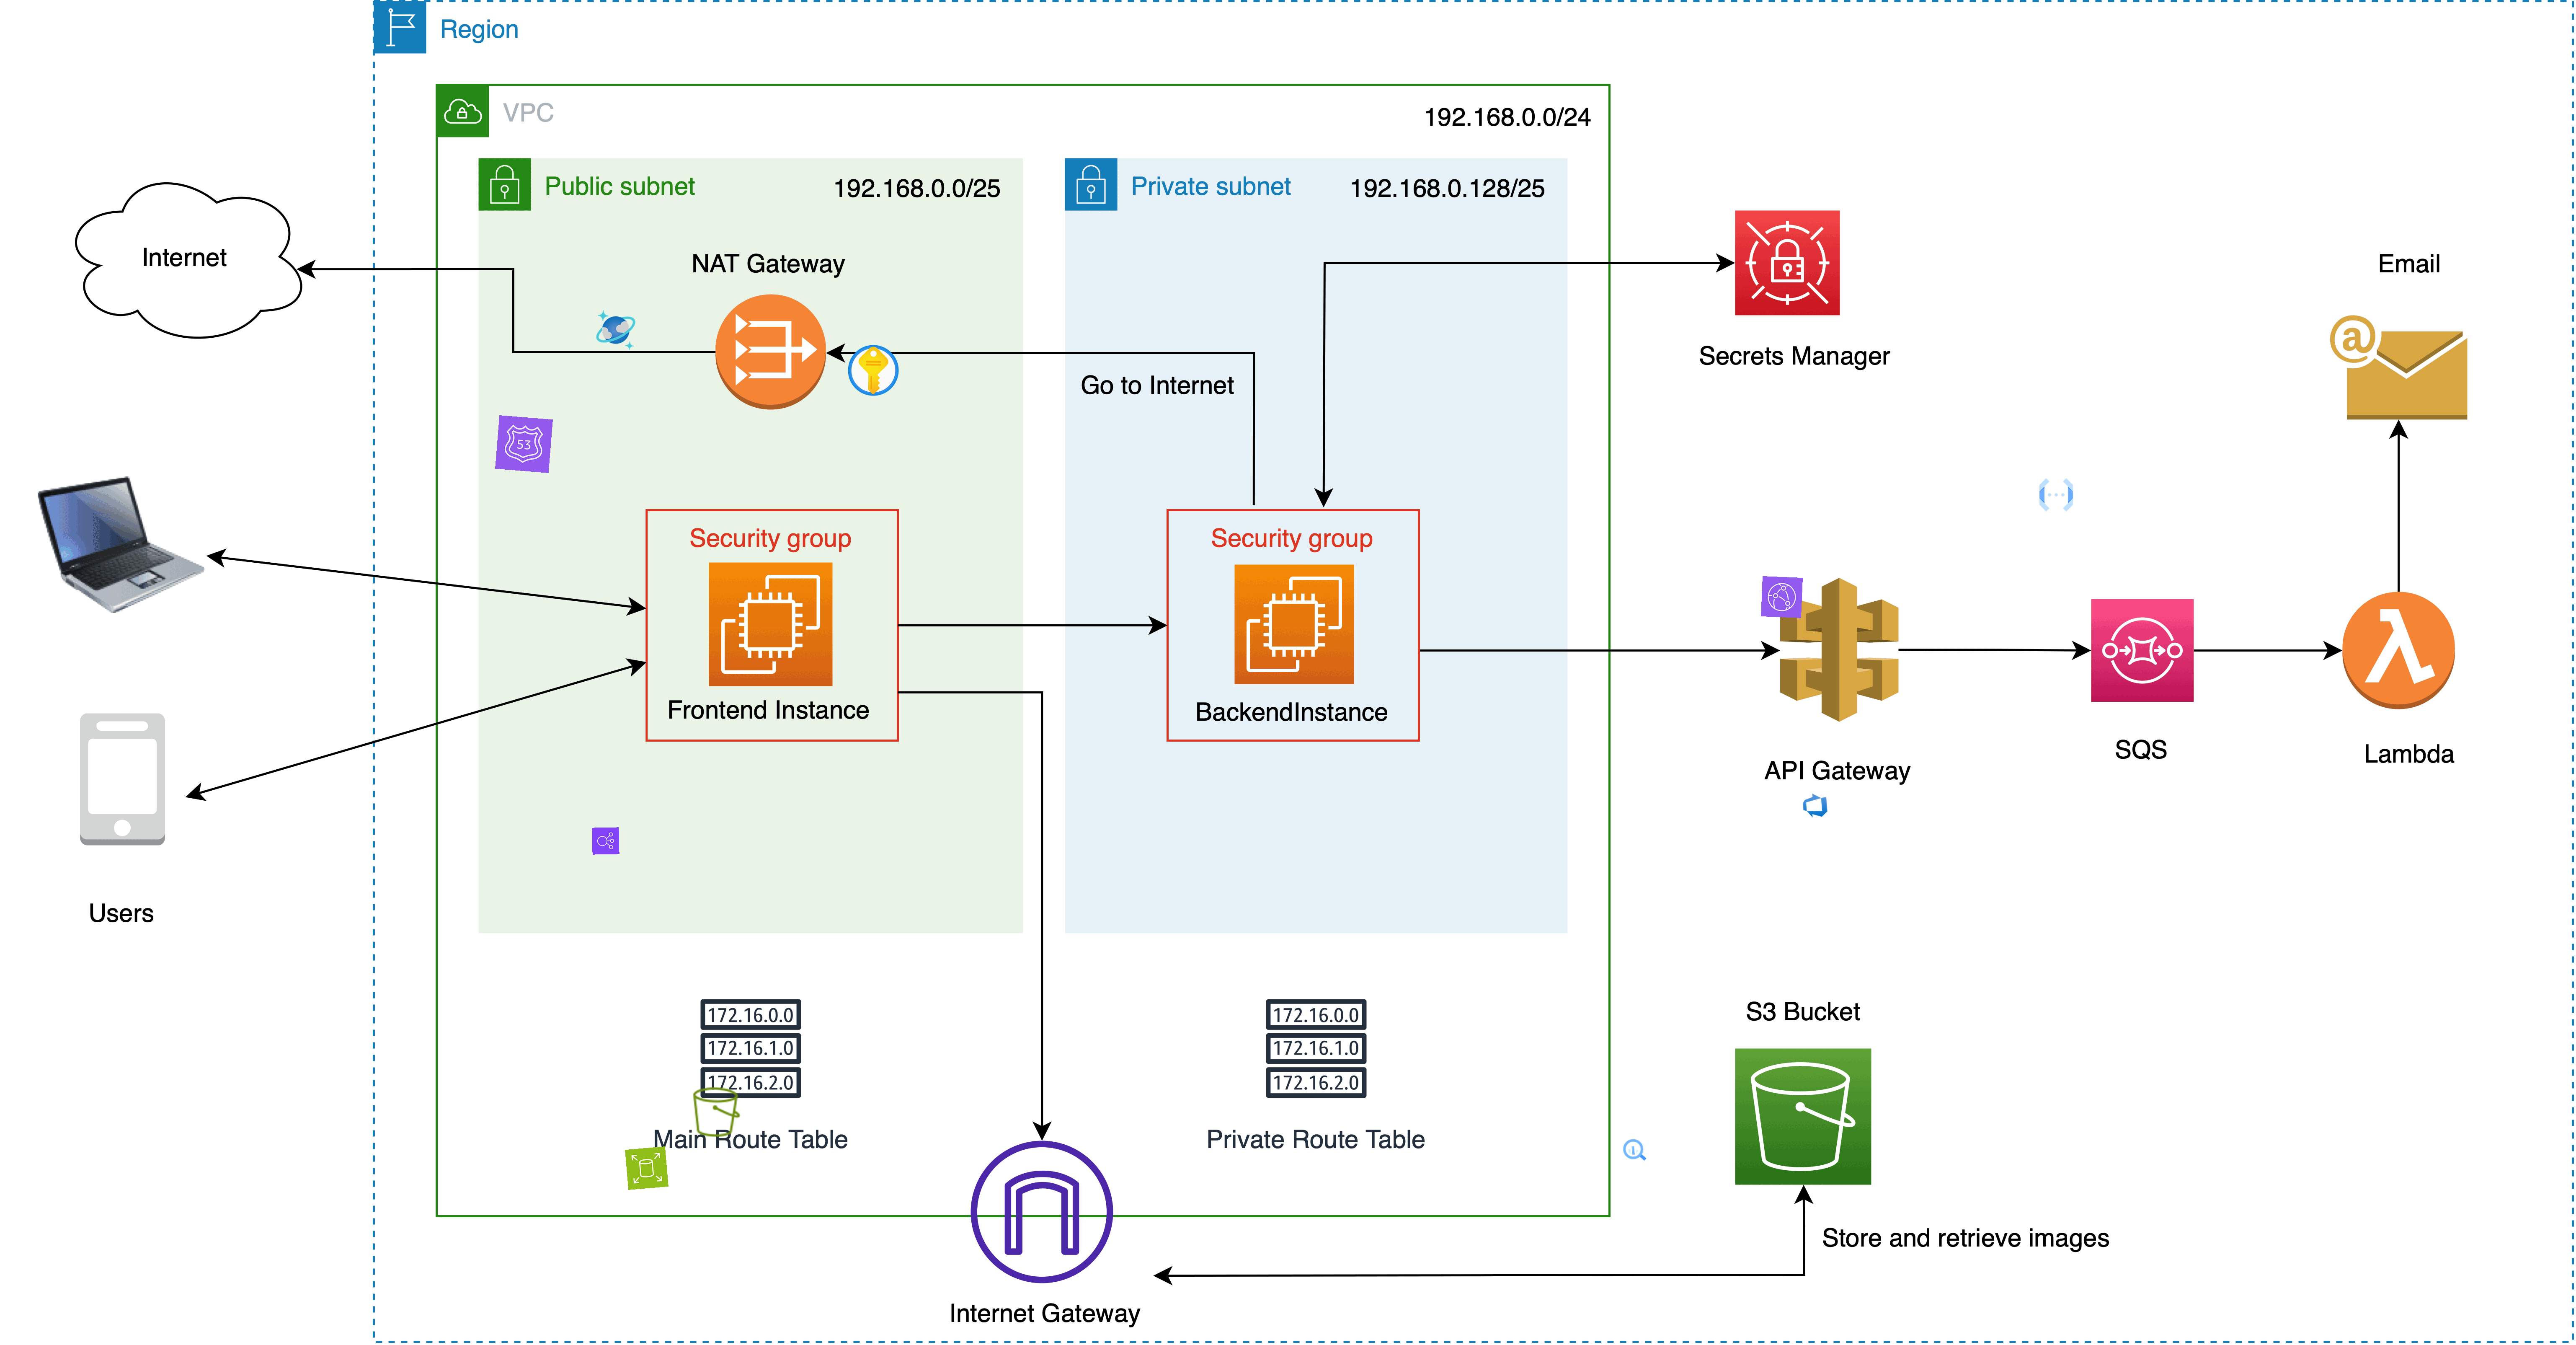aws_amazon_cloudfront: (1762, 576, 1803, 619)
aws_amazon_elastic_block_store: (625, 1146, 668, 1190)
aws_amazon_route_53: (496, 416, 554, 474)
aws_elastic_load_balancing: (591, 827, 620, 854)
aws_simple_storage_service_bucket: (688, 1084, 745, 1140)
azure_cosmos_db: (595, 309, 637, 351)
azure_devops: (1801, 791, 1830, 820)
azure_key_vaults: (847, 343, 901, 397)
gcp_bigquery: (1620, 1135, 1649, 1164)
gcp_cloud_functions: (2036, 474, 2077, 515)
